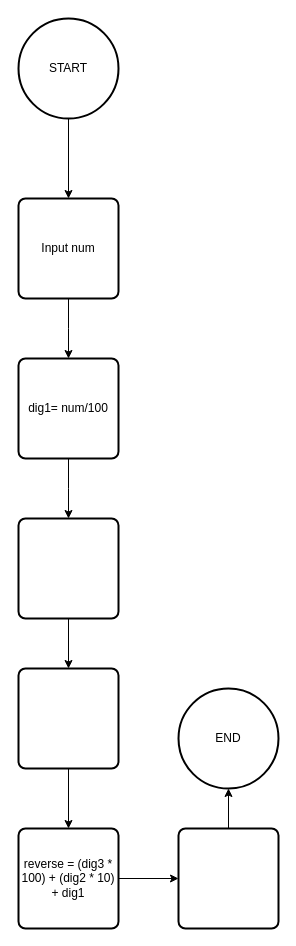
Image size: 296x946. Some labels were removed from this diagram. Each missing label, with the centre of its shape:
"dig2= (num % 100) / 10" goes at (x=68, y=568).
"dig3= num % 10" goes at (x=68, y=718).
"Print reverse" goes at (x=228, y=878).
